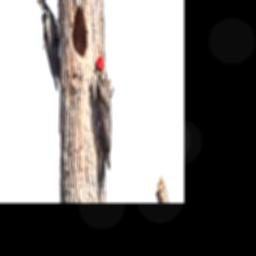Woodpecker: (92, 55, 111, 202), (34, 0, 60, 90)
